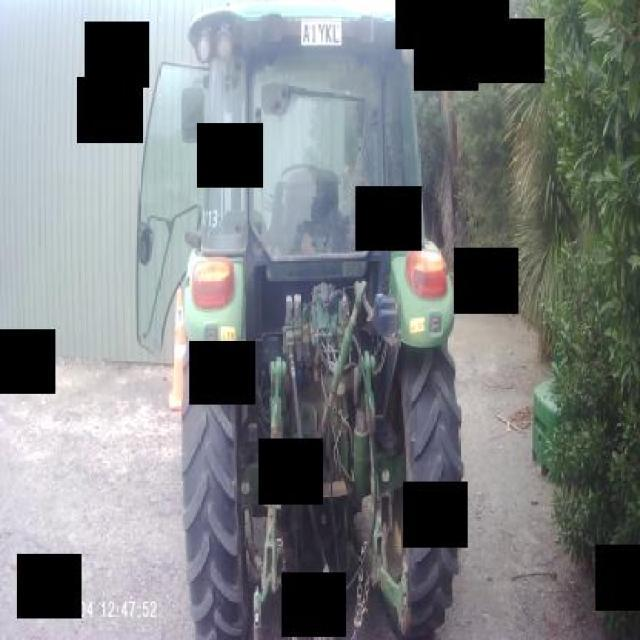Tratores - v5 YOLO V8L 2024-11-13: (143, 1, 487, 640)
